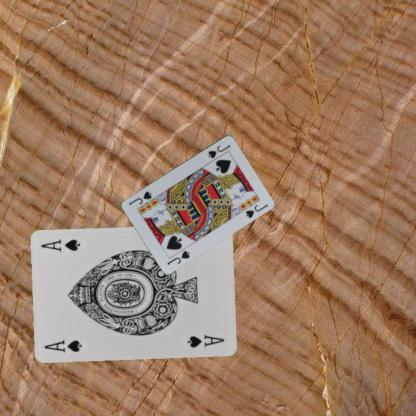As: (42, 337, 83, 353)
Js: (205, 142, 232, 160), (164, 248, 191, 266)
